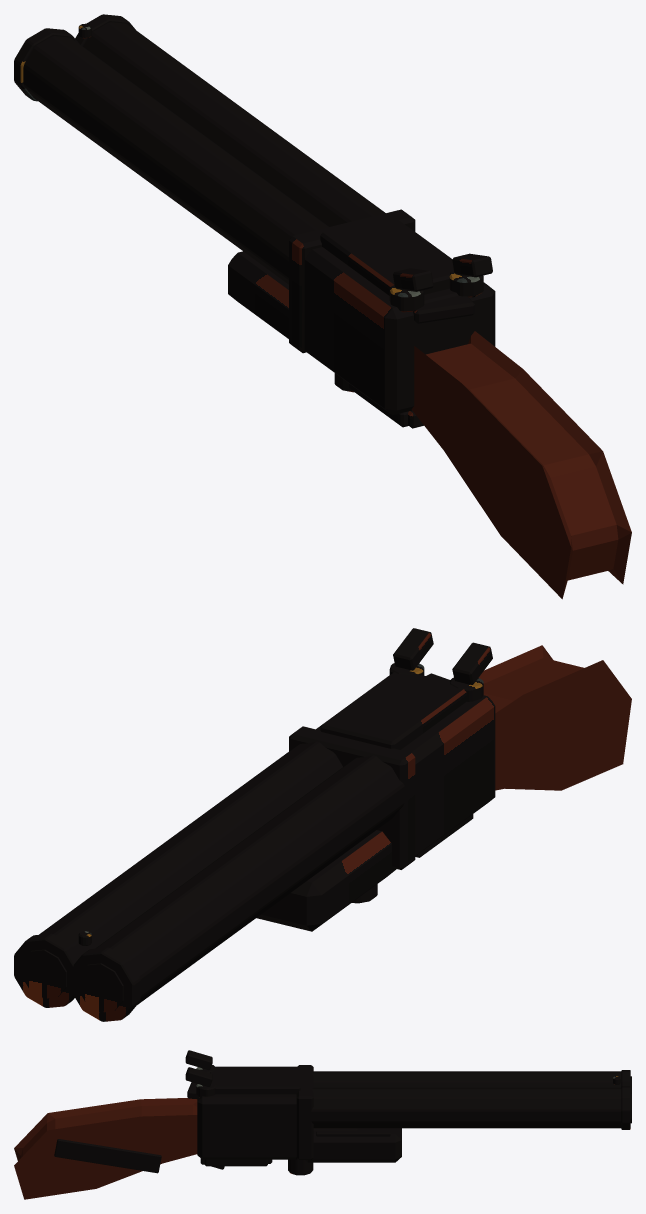
The model's file is TraditionalDoubleBarrel.glb.
3 renders of one model, top to bottom at view 1: azimuth 30°, elevation 25°; view 2: azimuth 150°, elevation 25°; view 3: azimuth 270°, elevation 25°, orthographic. The views are drawn at different scales.
Parts seen in each view (by area): view 1: TraditionalDoubleBarrel_Body, BreakAction_Barrels; view 2: BreakAction_Barrels, TraditionalDoubleBarrel_Body; view 3: TraditionalDoubleBarrel_Body, BreakAction_Barrels.
Part boxes in pixels (x1,y1,x2,y2): TraditionalDoubleBarrel_Body: [289, 209, 631, 599]; BreakAction_Barrels: [14, 14, 385, 353]; BreakAction_Barrels: [14, 741, 404, 1021]; TraditionalDoubleBarrel_Body: [289, 628, 631, 903]; TraditionalDoubleBarrel_Body: [14, 1050, 313, 1199]; BreakAction_Barrels: [305, 1070, 631, 1162].
Bounding box in the file's own units: 0.8703 × 1.54 × 6.64.
1 material, 1 textured.
